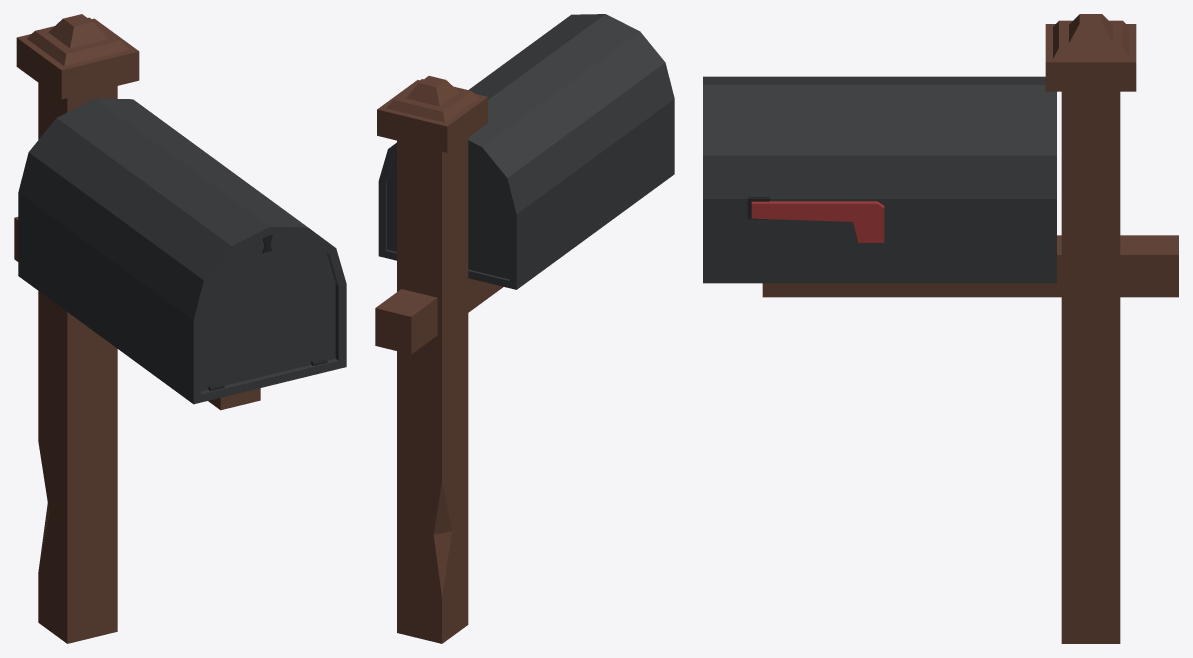
Rendered from SM_Props_Farm_PostBox_03.fbx.
The picture shows the model from 3 angles, left to right: view 1: azimuth 30°, elevation 25°; view 2: azimuth 150°, elevation 25°; view 3: azimuth 270°, elevation 25°; orthographic projection. The views are drawn at different scales.
Parts seen in each view (by area): view 1: SM_Props_Farm_PostBox_03; view 2: SM_Props_Farm_PostBox_03; view 3: SM_Props_Farm_PostBox_03.
Boxes of the visible parts, x1,y1,x2,y2 form: SM_Props_Farm_PostBox_03: (14, 14, 346, 643); SM_Props_Farm_PostBox_03: (375, 14, 674, 643); SM_Props_Farm_PostBox_03: (703, 14, 1178, 643).
Size of the model in its own units: 31.22 by 113 by 79.35.
